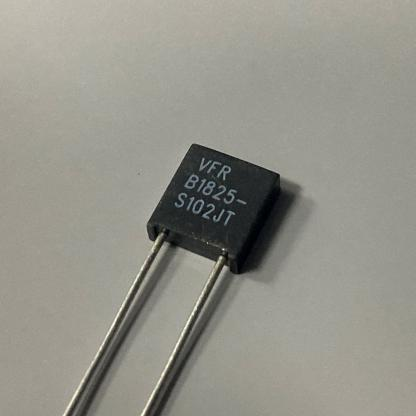SP0000007: (9, 77, 343, 416)
